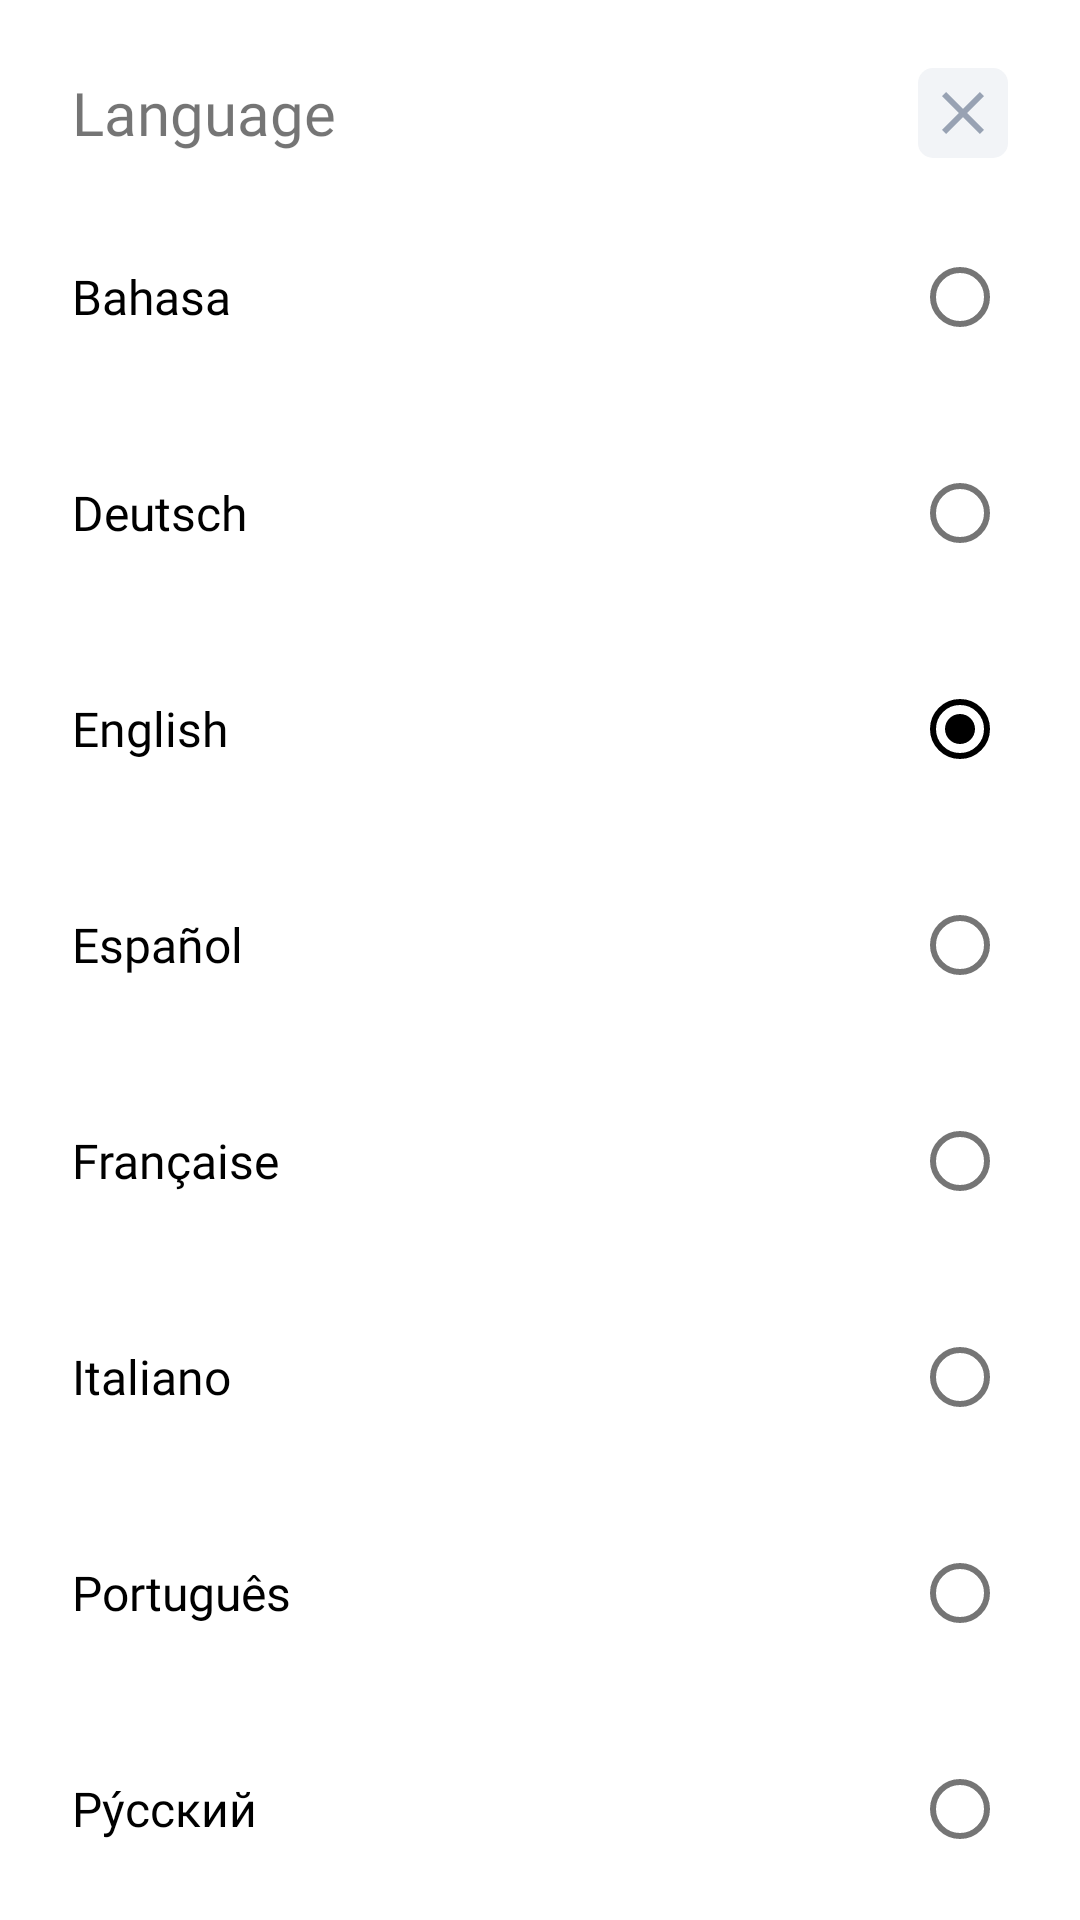

Icon click points for this 1080w x 1920h phone screenshot, format (x=x, y=y):
close: (x=963, y=113)
